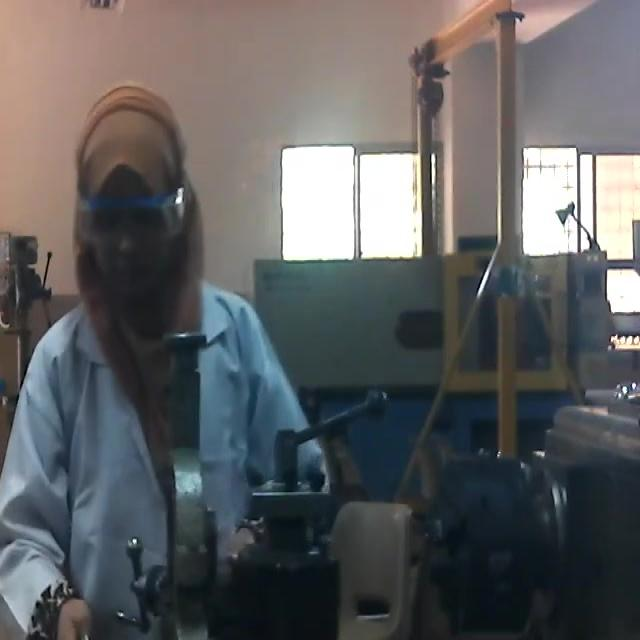googles: (74, 187, 182, 255)
labcoat: (1, 263, 334, 640)
